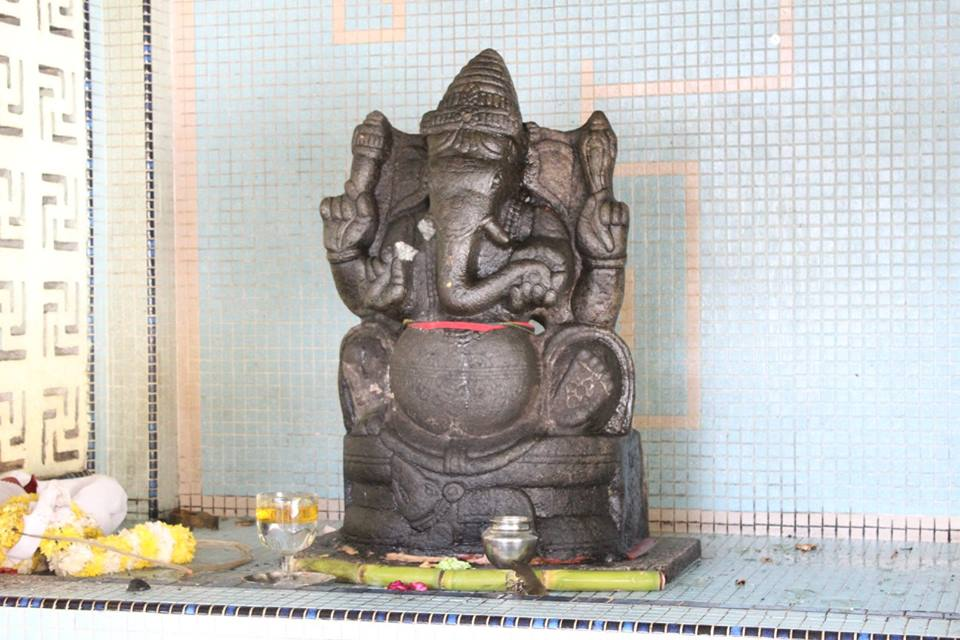Hindu Temple: (326, 52, 636, 552)
